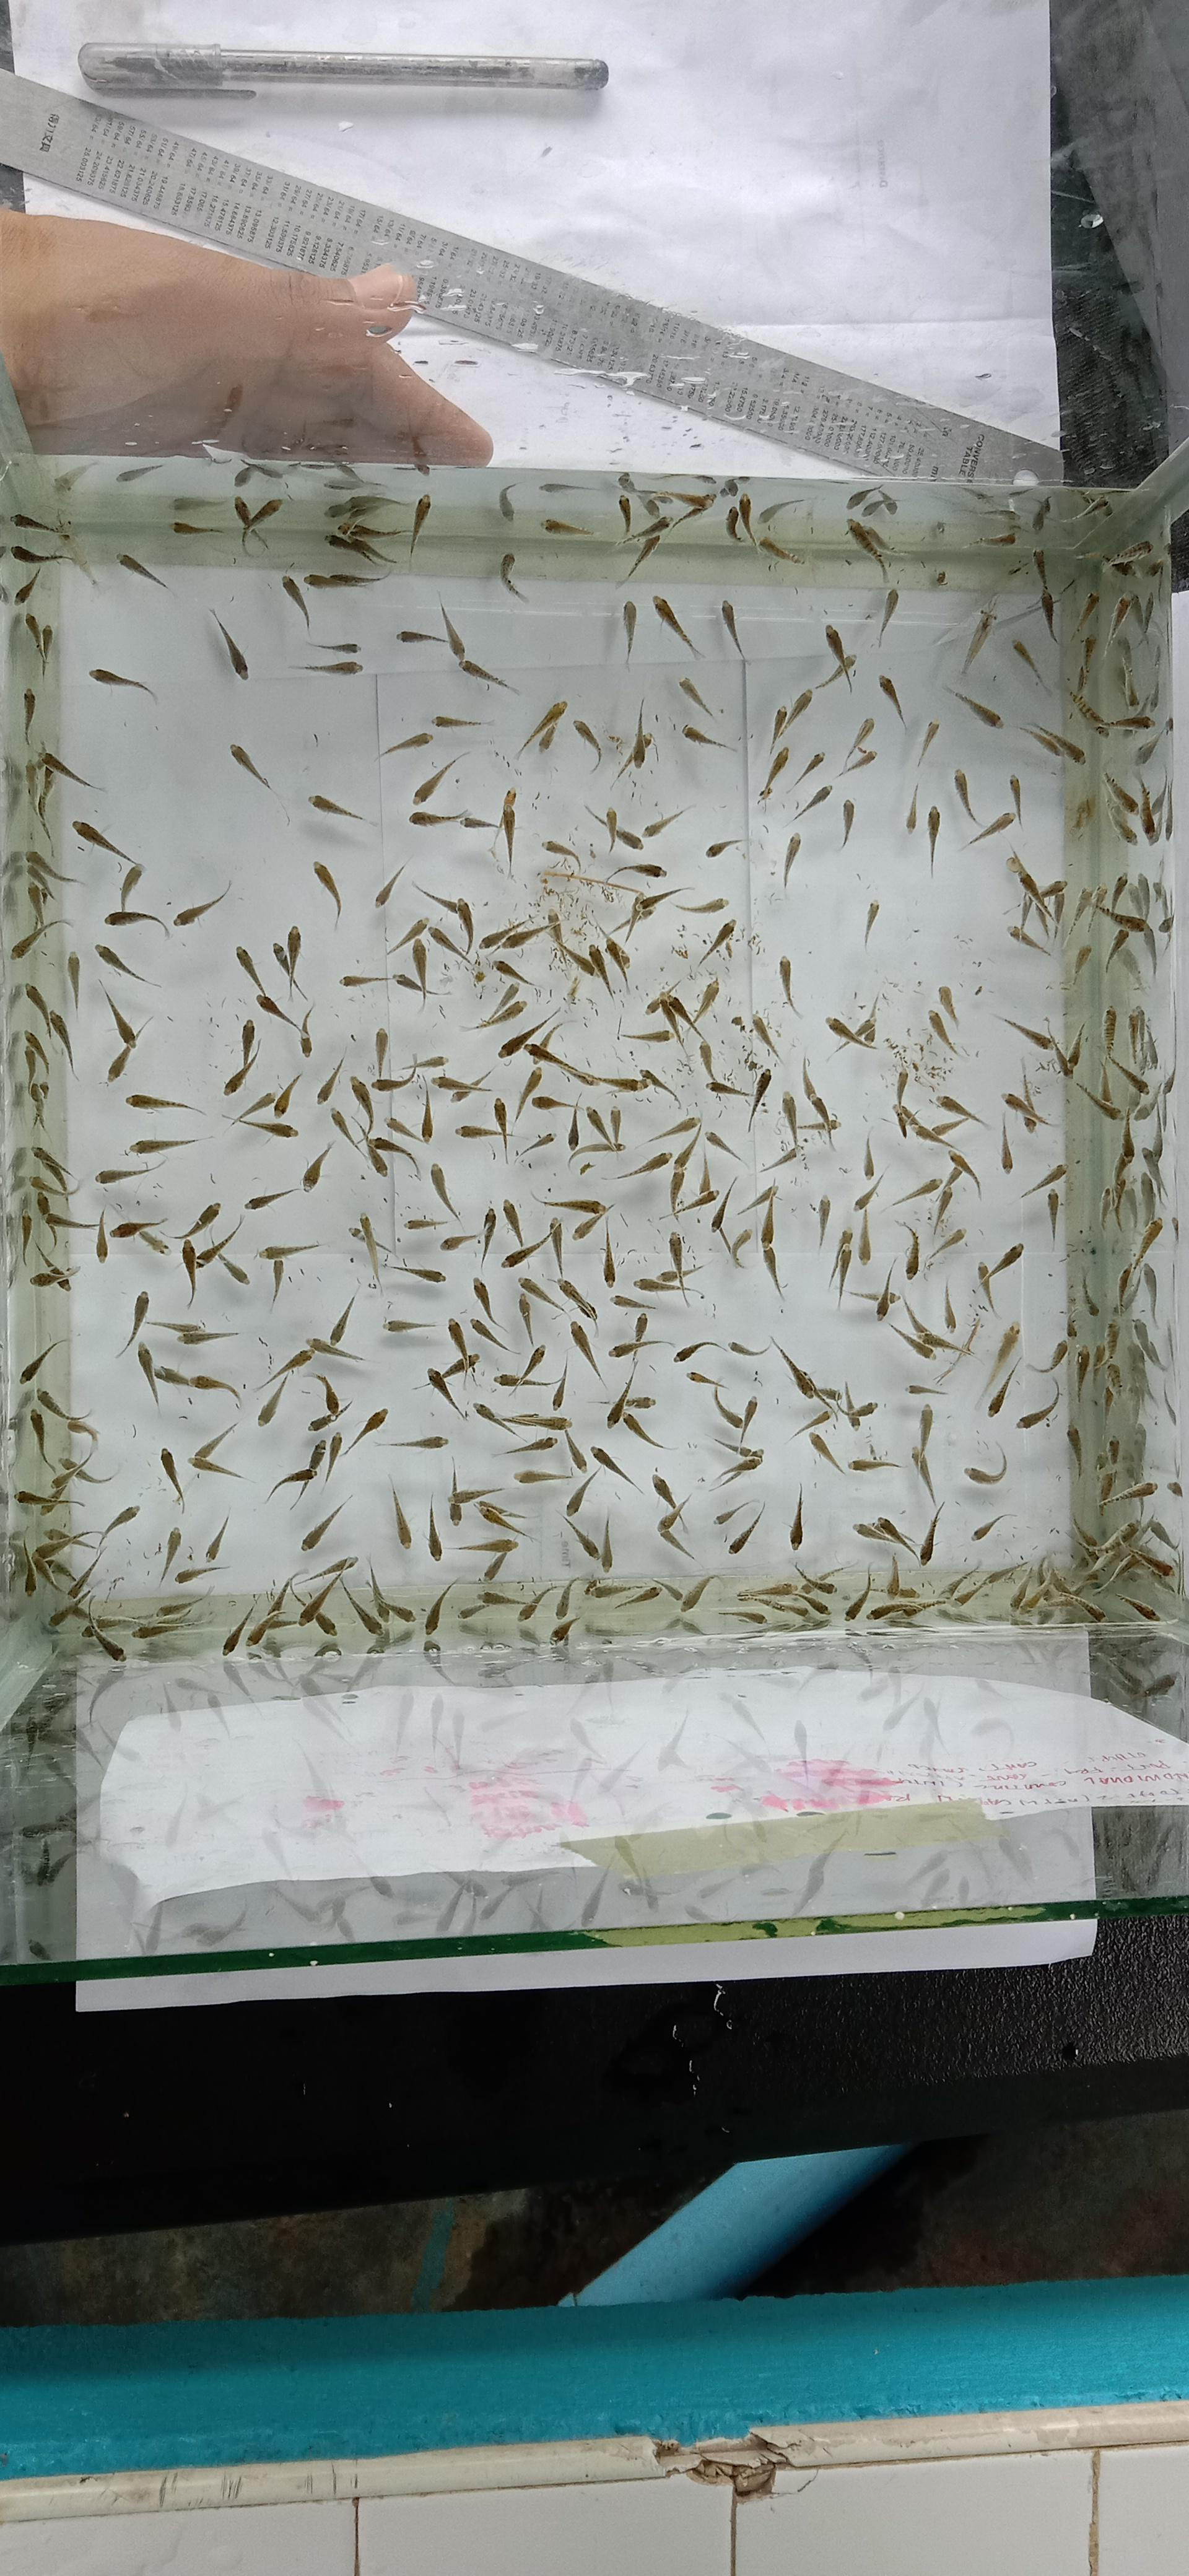fingerling: (755, 624, 857, 800), (1069, 591, 1168, 739), (540, 856, 701, 943), (223, 1554, 358, 1654), (644, 981, 749, 1099), (268, 1406, 388, 1510), (599, 1115, 713, 1217), (255, 1295, 363, 1393), (614, 480, 718, 582), (770, 1336, 877, 1431), (931, 591, 1046, 677), (568, 1111, 701, 1180), (233, 945, 312, 1056), (580, 1575, 713, 1640), (890, 1295, 974, 1393), (82, 1594, 205, 1658), (324, 491, 430, 565), (892, 1068, 984, 1152), (438, 603, 519, 695), (865, 1564, 982, 1626), (767, 1056, 839, 1153), (15, 1447, 117, 1515), (1008, 1554, 1105, 1625), (33, 747, 102, 841), (10, 513, 99, 585), (757, 687, 813, 800), (726, 493, 810, 567), (599, 1364, 670, 1451), (529, 1043, 645, 1094), (245, 1143, 332, 1211), (181, 1217, 245, 1308), (20, 611, 61, 749), (223, 1579, 297, 1654), (632, 1230, 705, 1306), (268, 1436, 340, 1510), (673, 675, 741, 752), (230, 743, 292, 825), (457, 1582, 557, 1633), (1005, 849, 1066, 933), (542, 859, 665, 900), (102, 986, 154, 1081), (997, 1015, 1079, 1076), (228, 1071, 305, 1135), (296, 1554, 358, 1633), (103, 862, 169, 936), (23, 982, 76, 1073), (26, 1531, 99, 1597), (736, 1580, 831, 1630), (48, 1603, 126, 1663), (686, 1370, 757, 1436), (412, 882, 476, 954), (393, 935, 452, 1010), (962, 775, 1023, 848), (877, 1502, 943, 1567), (1117, 1216, 1164, 1306), (153, 1360, 241, 1408), (951, 1559, 1026, 1615), (1092, 904, 1153, 973), (304, 1295, 365, 1362), (650, 1472, 696, 1561), (614, 513, 673, 582), (176, 1513, 232, 1585), (258, 1240, 320, 1304), (447, 1456, 506, 1523), (900, 1298, 967, 1355), (708, 1178, 751, 1268), (340, 1580, 391, 1654), (330, 1107, 386, 1175), (92, 1595, 200, 1630), (982, 1322, 1021, 1416), (388, 913, 432, 996), (255, 992, 312, 1055), (568, 1106, 624, 1170), (457, 1097, 511, 1161), (1109, 593, 1138, 710), (976, 1242, 1023, 1314), (619, 471, 718, 506), (507, 1360, 570, 1414), (547, 913, 599, 977), (586, 917, 634, 987), (473, 1401, 570, 1436), (621, 884, 688, 933), (1072, 697, 1153, 738), (440, 1206, 496, 1265), (800, 1056, 838, 1143), (72, 820, 141, 867), (34, 1388, 97, 1441), (365, 1562, 417, 1625), (1071, 590, 1102, 695), (498, 1009, 562, 1060), (770, 1336, 819, 1401), (412, 749, 470, 805), (189, 1421, 245, 1479), (731, 1181, 778, 1249), (429, 923, 483, 982), (516, 698, 568, 759), (457, 1600, 534, 1641), (133, 1597, 204, 1641), (846, 1265, 900, 1322), (642, 486, 714, 529), (384, 1083, 434, 1145), (652, 595, 700, 659), (301, 1495, 351, 1554), (94, 943, 161, 987), (616, 700, 654, 779), (608, 1313, 670, 1360), (56, 516, 99, 585), (33, 1188, 97, 1234), (350, 1212, 388, 1290), (233, 494, 282, 554), (209, 608, 250, 678), (852, 1516, 920, 1559), (675, 1607, 767, 1638), (305, 1373, 355, 1431), (645, 984, 695, 1042), (585, 805, 644, 853), (698, 1038, 746, 1097), (481, 917, 558, 953), (371, 1028, 415, 1091), (476, 1500, 539, 1544), (852, 1173, 884, 1262), (716, 1498, 765, 1554), (844, 519, 892, 577), (223, 1019, 259, 1094), (172, 882, 232, 928), (255, 1345, 314, 1391), (668, 1134, 701, 1216), (271, 925, 307, 999), (39, 749, 102, 792), (1021, 721, 1086, 762), (10, 918, 74, 959), (327, 529, 396, 567), (910, 1406, 936, 1505), (1067, 1074, 1123, 1120), (672, 1339, 769, 1365), (148, 1319, 238, 1347), (759, 1198, 783, 1299), (1005, 851, 1056, 900), (1033, 547, 1059, 642), (463, 989, 524, 1030), (530, 1043, 591, 1084), (222, 1594, 261, 1656), (545, 867, 624, 899), (770, 687, 813, 744), (115, 1290, 151, 1357), (590, 1446, 642, 1492), (296, 1580, 340, 1635), (944, 687, 1002, 728), (340, 1408, 388, 1457), (516, 1275, 567, 1321), (89, 665, 156, 700), (460, 1538, 516, 1579), (325, 493, 402, 522), (54, 1452, 117, 1488), (494, 1345, 547, 1388), (711, 1446, 764, 1488), (460, 657, 519, 695), (839, 716, 877, 775), (424, 1365, 465, 1419), (682, 1148, 716, 1212), (33, 1529, 97, 1564), (447, 1318, 481, 1382), (103, 986, 140, 1046), (823, 624, 857, 687), (604, 1150, 673, 1181), (166, 1201, 220, 1240), (1099, 1479, 1158, 1515), (611, 517, 670, 554), (20, 1337, 66, 1383), (711, 1387, 757, 1433), (30, 1145, 76, 1191), (197, 1219, 245, 1263), (1002, 1089, 1051, 1132), (1110, 1119, 1135, 1204), (570, 1321, 604, 1382), (695, 917, 736, 968), (501, 1229, 552, 1270), (118, 552, 171, 591), (368, 1137, 420, 1176), (1128, 1318, 1168, 1370), (962, 608, 994, 674), (296, 1554, 358, 1587), (432, 1068, 494, 1101), (312, 859, 342, 928), (836, 1382, 879, 1429), (622, 534, 665, 582), (562, 1515, 603, 1564), (25, 851, 80, 887), (962, 810, 1015, 848), (1010, 639, 1048, 692), (847, 1437, 900, 1475), (230, 743, 273, 789), (964, 1439, 1007, 1485), (923, 1226, 966, 1272), (718, 478, 749, 540), (944, 1147, 982, 1198), (824, 1014, 877, 1050), (790, 1561, 842, 1597), (396, 938, 427, 999), (23, 611, 54, 672), (604, 1367, 636, 1428), (1015, 1388, 1059, 1431), (1104, 1053, 1150, 1094), (1133, 715, 1171, 764), (496, 787, 517, 874), (227, 1112, 297, 1138), (429, 1161, 460, 1221), (46, 1009, 76, 1071), (246, 1612, 297, 1648), (511, 1066, 544, 1122), (524, 1015, 567, 1058), (82, 1621, 126, 1663), (828, 1227, 851, 1306), (621, 1411, 668, 1449), (557, 941, 604, 979), (268, 1469, 315, 1506), (680, 721, 737, 752), (572, 716, 604, 770), (424, 1580, 457, 1635), (126, 1092, 204, 1115), (376, 856, 411, 907), (191, 1373, 241, 1408), (557, 1276, 598, 1319), (386, 915, 430, 954), (657, 1516, 696, 1561), (640, 1115, 700, 1145), (583, 1106, 622, 1150), (711, 1222, 751, 1267), (1092, 904, 1148, 935), (534, 1189, 604, 1214), (1020, 1161, 1066, 1199), (757, 747, 790, 800), (33, 766, 56, 839), (585, 941, 616, 996), (412, 882, 466, 913), (1109, 593, 1140, 647), (103, 908, 168, 935), (135, 1344, 161, 1408), (1026, 1336, 1071, 1373), (931, 609, 976, 647), (936, 1094, 987, 1127), (1104, 540, 1155, 573), (887, 1322, 933, 1359), (663, 996, 700, 1042), (281, 575, 310, 631), (304, 1334, 363, 1362), (606, 861, 665, 889), (156, 1526, 184, 1585), (846, 486, 898, 517), (842, 1567, 874, 1620), (639, 1068, 680, 1107), (747, 1068, 772, 1134), (1125, 1548, 1174, 1580), (438, 603, 466, 660), (931, 1173, 959, 1230), (11, 1538, 39, 1595), (468, 1316, 512, 1352), (568, 1135, 622, 1165), (108, 1216, 169, 1242), (1072, 634, 1099, 695), (256, 1375, 287, 1426), (911, 1114, 962, 1145), (565, 1469, 599, 1515), (95, 1163, 164, 1186), (435, 1349, 481, 1383), (407, 493, 432, 557), (754, 1184, 778, 1249), (46, 1602, 94, 1635), (309, 793, 365, 821), (877, 674, 907, 726), (158, 1447, 184, 1506), (874, 588, 900, 647), (365, 1562, 391, 1621), (677, 675, 714, 716), (792, 782, 833, 820), (808, 1433, 846, 1474), (675, 1575, 716, 1613), (1071, 693, 1109, 734), (504, 1410, 572, 1433), (1102, 770, 1138, 813), (918, 1502, 943, 1564), (892, 1176, 941, 1207), (235, 945, 266, 994), (1007, 923, 1051, 958), (304, 570, 388, 588), (642, 807, 688, 839), (391, 1483, 414, 1549), (516, 1585, 555, 1623), (315, 1056, 347, 1104), (751, 1014, 782, 1061), (790, 749, 826, 790), (939, 1567, 980, 1603), (235, 1088, 278, 1122), (734, 1183, 777, 1217), (553, 1575, 588, 1618), (1072, 884, 1107, 927), (801, 1058, 824, 1122), (21, 1030, 49, 1083), (719, 598, 744, 657), (603, 935, 632, 984), (759, 498, 808, 527), (133, 1618, 192, 1643), (737, 1580, 796, 1605), (23, 984, 56, 1028), (539, 478, 619, 496), (926, 1009, 957, 1055), (493, 958, 539, 989), (747, 828, 778, 874), (130, 1135, 202, 1155), (499, 550, 527, 601), (728, 494, 755, 545), (514, 1130, 555, 1165), (1112, 1594, 1159, 1623), (788, 1406, 831, 1439), (473, 1401, 516, 1434), (381, 1166, 397, 1252), (496, 1436, 557, 1459), (273, 1071, 304, 1115), (384, 1112, 429, 1143), (609, 1584, 662, 1610), (1074, 590, 1100, 642), (43, 1207, 99, 1232), (714, 1498, 764, 1526), (874, 1265, 898, 1321), (189, 1454, 245, 1479), (328, 1295, 356, 1344), (489, 1097, 511, 1161), (302, 1145, 332, 1191), (181, 1239, 200, 1308), (1104, 925, 1133, 971), (1127, 1007, 1150, 1066), (233, 458, 284, 485), (350, 1074, 374, 1129), (1066, 793, 1097, 836), (675, 1184, 718, 1216), (892, 1069, 911, 1137), (897, 1221, 920, 1278), (10, 542, 67, 565), (757, 1143, 801, 1173), (51, 1454, 85, 1492), (953, 767, 977, 820), (703, 1130, 742, 1163), (624, 892, 657, 931), (867, 1602, 920, 1626), (53, 460, 92, 493), (806, 662, 847, 693), (476, 1207, 498, 1267), (381, 731, 432, 756), (673, 1339, 721, 1365), (393, 1262, 447, 1285), (1099, 711, 1153, 734), (572, 1207, 609, 1240), (586, 805, 619, 843), (693, 977, 721, 1022), (852, 1173, 884, 1212), (100, 1505, 140, 1536), (632, 511, 672, 542), (1063, 1022, 1086, 1074), (644, 885, 690, 912), (759, 536, 801, 563), (650, 1469, 678, 1511), (787, 1483, 805, 1549), (581, 908, 614, 945), (1105, 807, 1136, 844), (205, 1513, 230, 1561), (30, 1265, 77, 1290), (245, 1188, 296, 1211), (475, 1587, 526, 1610), (969, 1513, 1008, 1543), (778, 954, 798, 1014), (673, 1134, 703, 1173), (105, 1042, 135, 1081), (471, 1276, 498, 1321), (542, 516, 596, 537), (619, 601, 637, 665), (176, 1564, 230, 1585), (169, 493, 233, 511), (284, 458, 338, 480), (176, 1327, 240, 1345), (925, 805, 941, 874), (916, 720, 941, 766), (215, 1252, 250, 1285), (319, 1433, 342, 1482), (258, 1242, 320, 1260), (599, 1222, 617, 1285), (10, 923, 41, 959), (539, 867, 581, 894), (852, 1518, 895, 1544), (544, 838, 581, 867), (447, 1457, 463, 1525), (839, 747, 879, 775), (617, 1023, 673, 1043), (1038, 586, 1058, 642), (28, 1408, 48, 1464), (1140, 782, 1158, 843), (714, 1436, 762, 1459), (118, 862, 143, 907), (549, 1613, 580, 1648), (782, 833, 801, 887), (409, 808, 468, 826), (327, 460, 363, 490), (461, 1536, 516, 1556), (457, 900, 476, 954), (297, 660, 361, 677), (563, 1429, 588, 1472), (11, 513, 61, 534), (264, 1257, 286, 1306), (415, 1084, 434, 1142), (813, 1196, 833, 1249), (501, 1198, 524, 1242), (371, 1068, 415, 1091), (457, 1600, 501, 1623), (491, 997, 526, 1027), (15, 1488, 62, 1510), (13, 568, 41, 605), (348, 521, 404, 539), (946, 1587, 982, 1615), (976, 1262, 995, 1313), (253, 1336, 273, 1387), (434, 713, 494, 729), (1067, 943, 1094, 981), (736, 1396, 759, 1439), (663, 1615, 706, 1638), (884, 1556, 905, 1602), (1110, 1147, 1133, 1189), (642, 491, 673, 522), (381, 1434, 447, 1449), (117, 463, 166, 483), (427, 1503, 443, 1562), (549, 1219, 565, 1278), (634, 1272, 683, 1291), (514, 1469, 573, 1485), (716, 1608, 765, 1628), (798, 1594, 831, 1623), (675, 895, 728, 913), (769, 703, 790, 747), (609, 1293, 657, 1313), (847, 1456, 898, 1474), (148, 1318, 204, 1334), (549, 1364, 568, 1410), (66, 951, 80, 1012), (782, 1092, 798, 1147), (667, 1230, 686, 1275), (74, 1465, 118, 1485), (729, 1227, 752, 1265), (839, 798, 856, 851), (396, 629, 448, 646), (517, 1295, 534, 1347), (457, 1122, 504, 1140), (599, 1515, 614, 1572), (136, 1232, 171, 1257), (985, 1383, 1010, 1418), (938, 984, 959, 1023), (532, 1094, 575, 1114), (171, 519, 222, 536), (384, 1318, 435, 1334), (1007, 775, 1023, 826), (862, 900, 880, 946), (616, 494, 634, 540), (358, 1408, 388, 1436), (613, 825, 644, 851), (447, 1318, 466, 1359), (708, 1079, 749, 1099), (1100, 1005, 1117, 1055), (307, 1437, 327, 1479), (565, 1102, 581, 1152), (297, 1007, 314, 1056), (668, 1168, 685, 1216), (941, 1280, 956, 1332), (21, 688, 36, 741), (893, 1102, 915, 1138), (66, 1419, 99, 1442), (94, 1211, 108, 1262), (340, 974, 391, 989), (857, 1211, 872, 1262), (998, 1122, 1013, 1173), (1046, 1191, 1061, 1242), (705, 838, 742, 858), (708, 1194, 728, 1232), (1030, 877, 1067, 897), (905, 782, 920, 831), (440, 1234, 480, 1252), (1109, 872, 1128, 908), (393, 974, 425, 996), (373, 1028, 389, 1071), (686, 1370, 724, 1388), (631, 1311, 650, 1345), (905, 1382, 951, 1396), (728, 1339, 769, 1355), (309, 641, 360, 654), (312, 1640, 343, 1661), (404, 1216, 448, 1230), (499, 483, 517, 519), (979, 529, 1018, 545), (312, 1610, 338, 1635), (716, 476, 744, 499), (409, 1053, 447, 1069), (233, 496, 253, 527), (862, 1135, 875, 1181), (420, 1640, 443, 1666), (305, 1411, 335, 1431), (614, 470, 637, 494), (447, 1493, 465, 1525), (619, 1396, 657, 1411), (461, 815, 498, 830), (1002, 560, 1028, 580), (232, 463, 253, 486), (728, 1014, 749, 1033), (670, 943, 691, 961)
